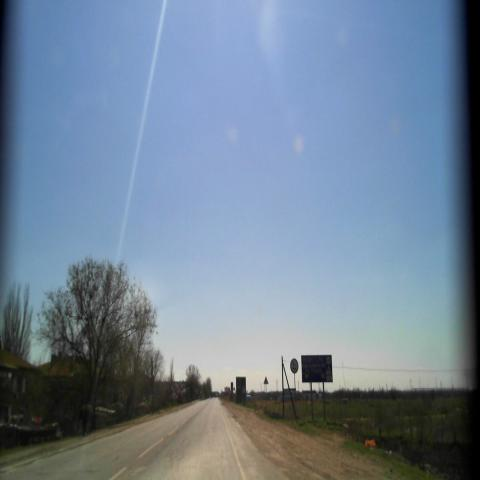3_12: (290, 357, 298, 374)
